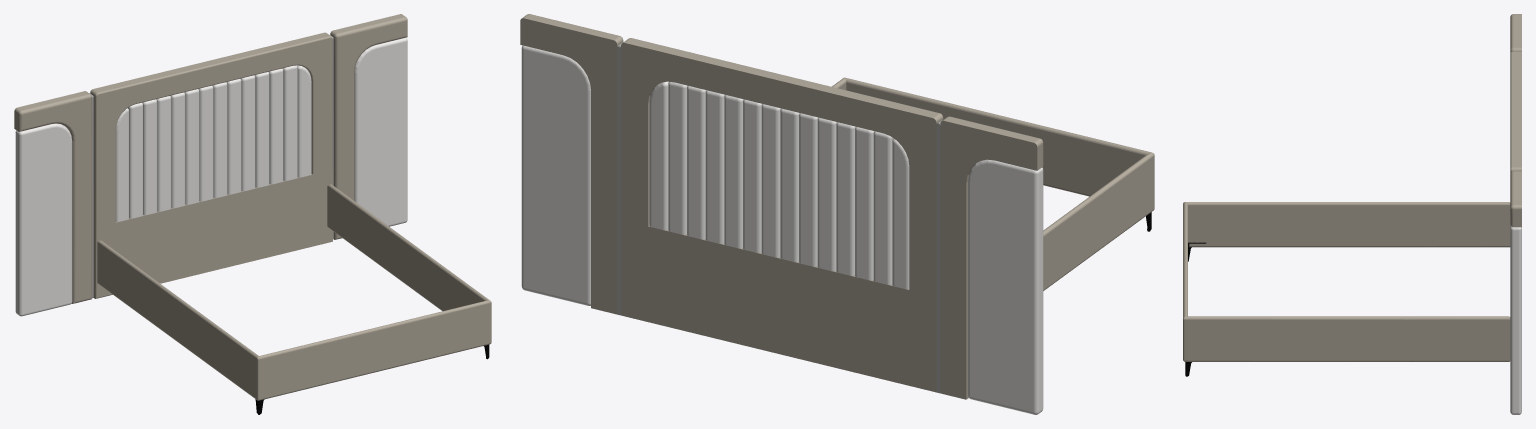
The model's file is bed_lorine_adult.glb.
3 renders of one model, left to right at view 1: azimuth 30°, elevation 25°; view 2: azimuth 150°, elevation 25°; view 3: azimuth 270°, elevation 25°, orthographic. The views are drawn at different scales.
Parts seen in each view (by area): view 1: 3DGeom-1, 3DGeom-2, 3DGeom-3; view 2: 3DGeom-1, 3DGeom-2, 3DGeom-3; view 3: 3DGeom-1, 3DGeom-2.
Boxes of the visible parts, x1,y1,x2,y2 form: 3DGeom-1: [14, 14, 491, 400]; 3DGeom-2: [15, 37, 407, 316]; 3DGeom-3: [89, 35, 333, 298]; 3DGeom-1: [520, 14, 1154, 399]; 3DGeom-2: [521, 45, 1043, 414]; 3DGeom-3: [617, 42, 942, 393]; 3DGeom-1: [1183, 14, 1521, 361]; 3DGeom-2: [1510, 224, 1521, 414].
Bounding box in the file's own units: 2.77 × 1.4 × 2.05.
